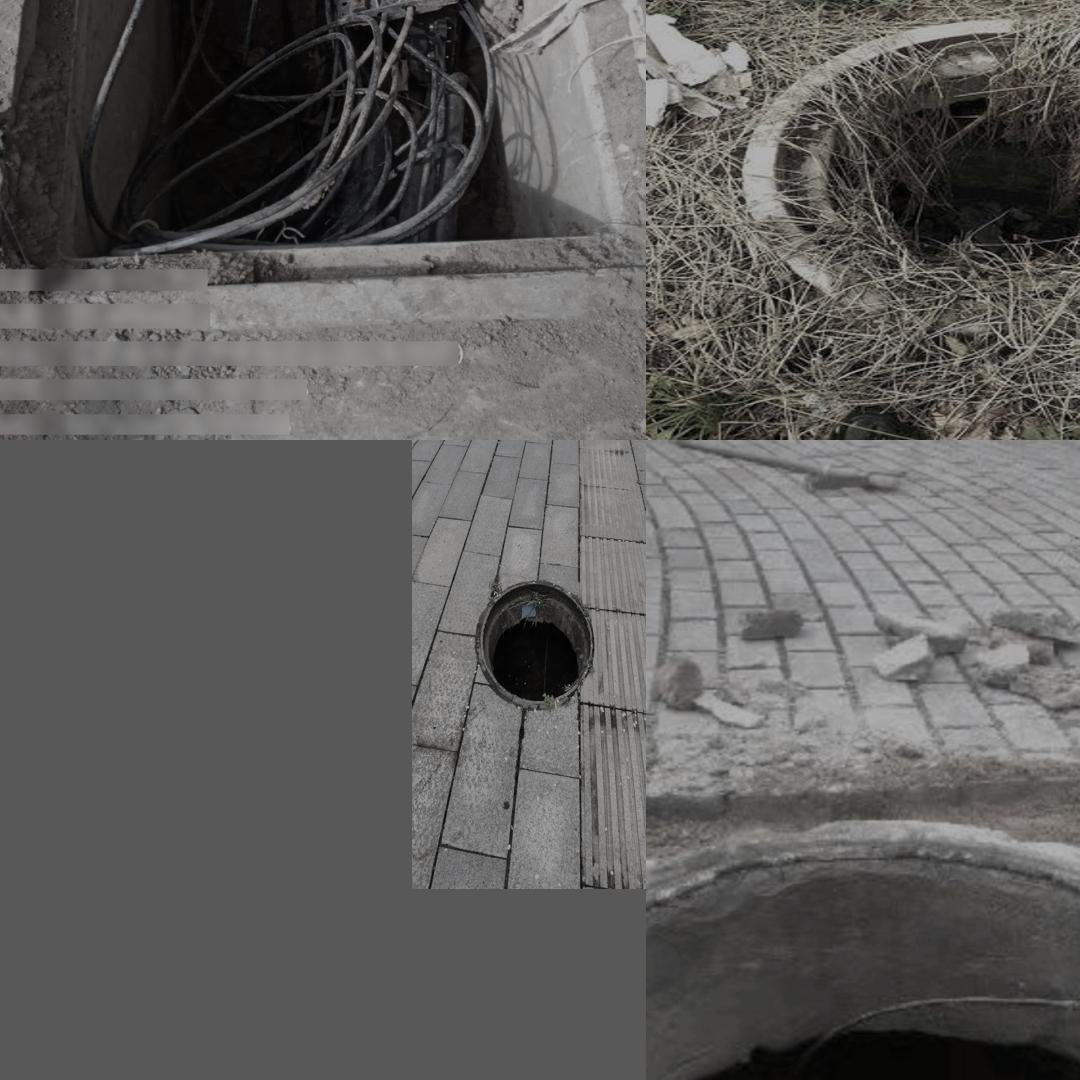lose: (0, 0, 633, 309), (742, 27, 1080, 347), (647, 831, 1080, 1080), (479, 578, 593, 708)
